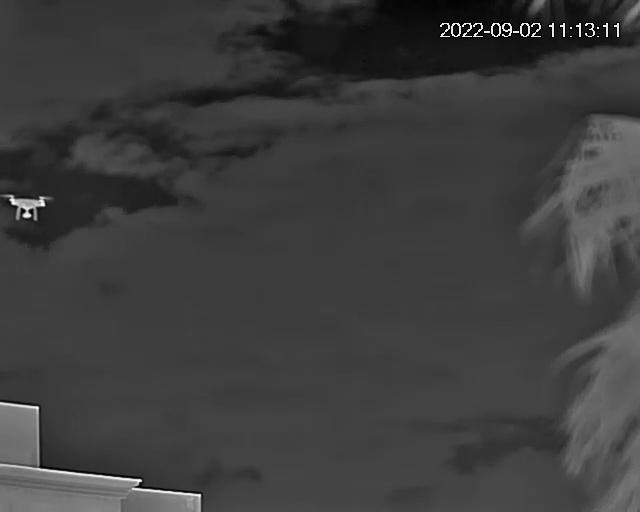DJI-Phantom: (5, 191, 55, 222)
